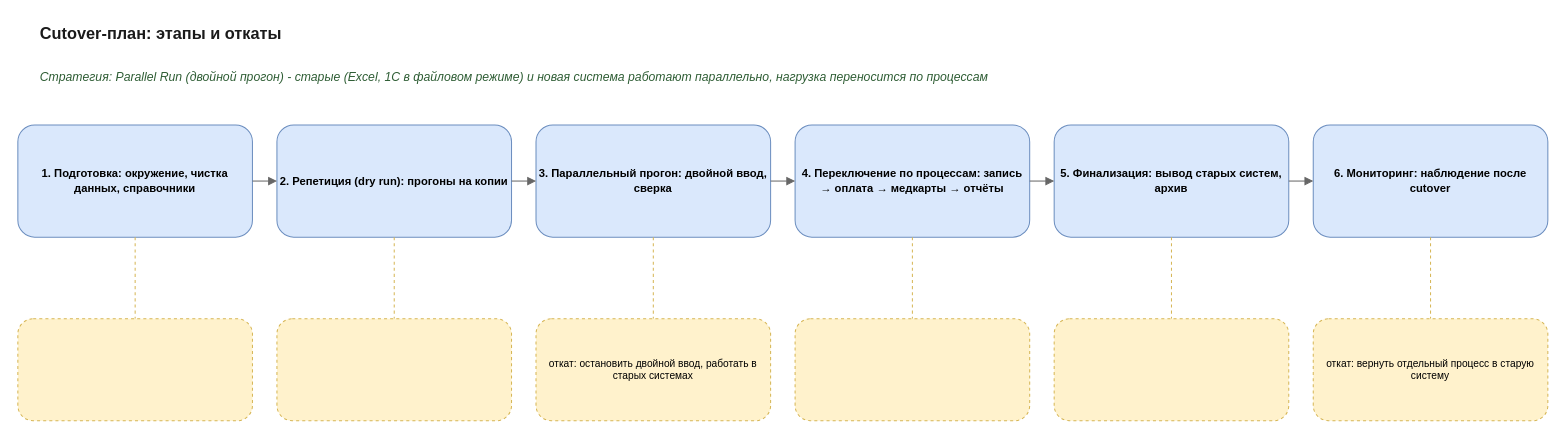
Image size: 1566x439. Some labels were removed from this diagram. Here are the shapes that lost their labels. From the top down, the centre of each, then its label:
At [134,369]: "откат не нужен (production не тронут)".
At [394,369]: "откат: исправить скрипты, повторить репетицию".
At [912,369]: "откат: вернуть процесс в старую систему (держится до этапа 5)".
At [1171,369]: "откат: старая система остаётся в «холодном резерве» на 1 месяц".
